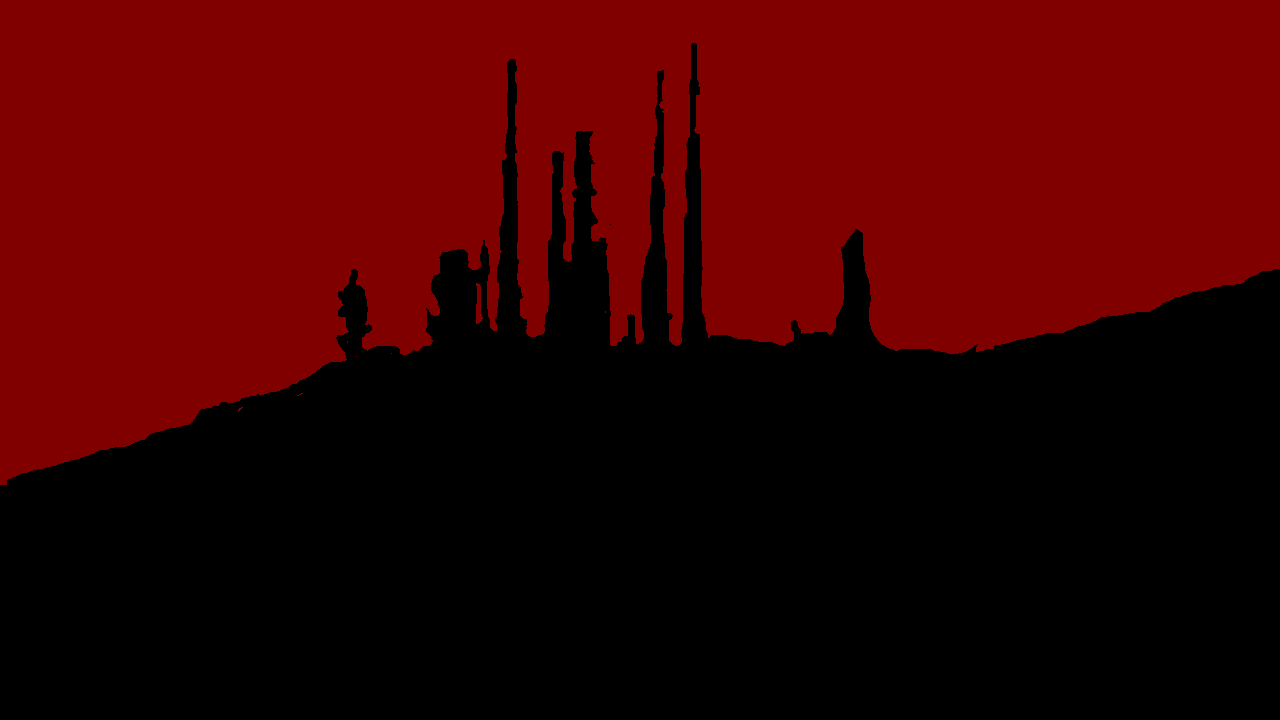Sky: (1, 1, 1279, 484)
